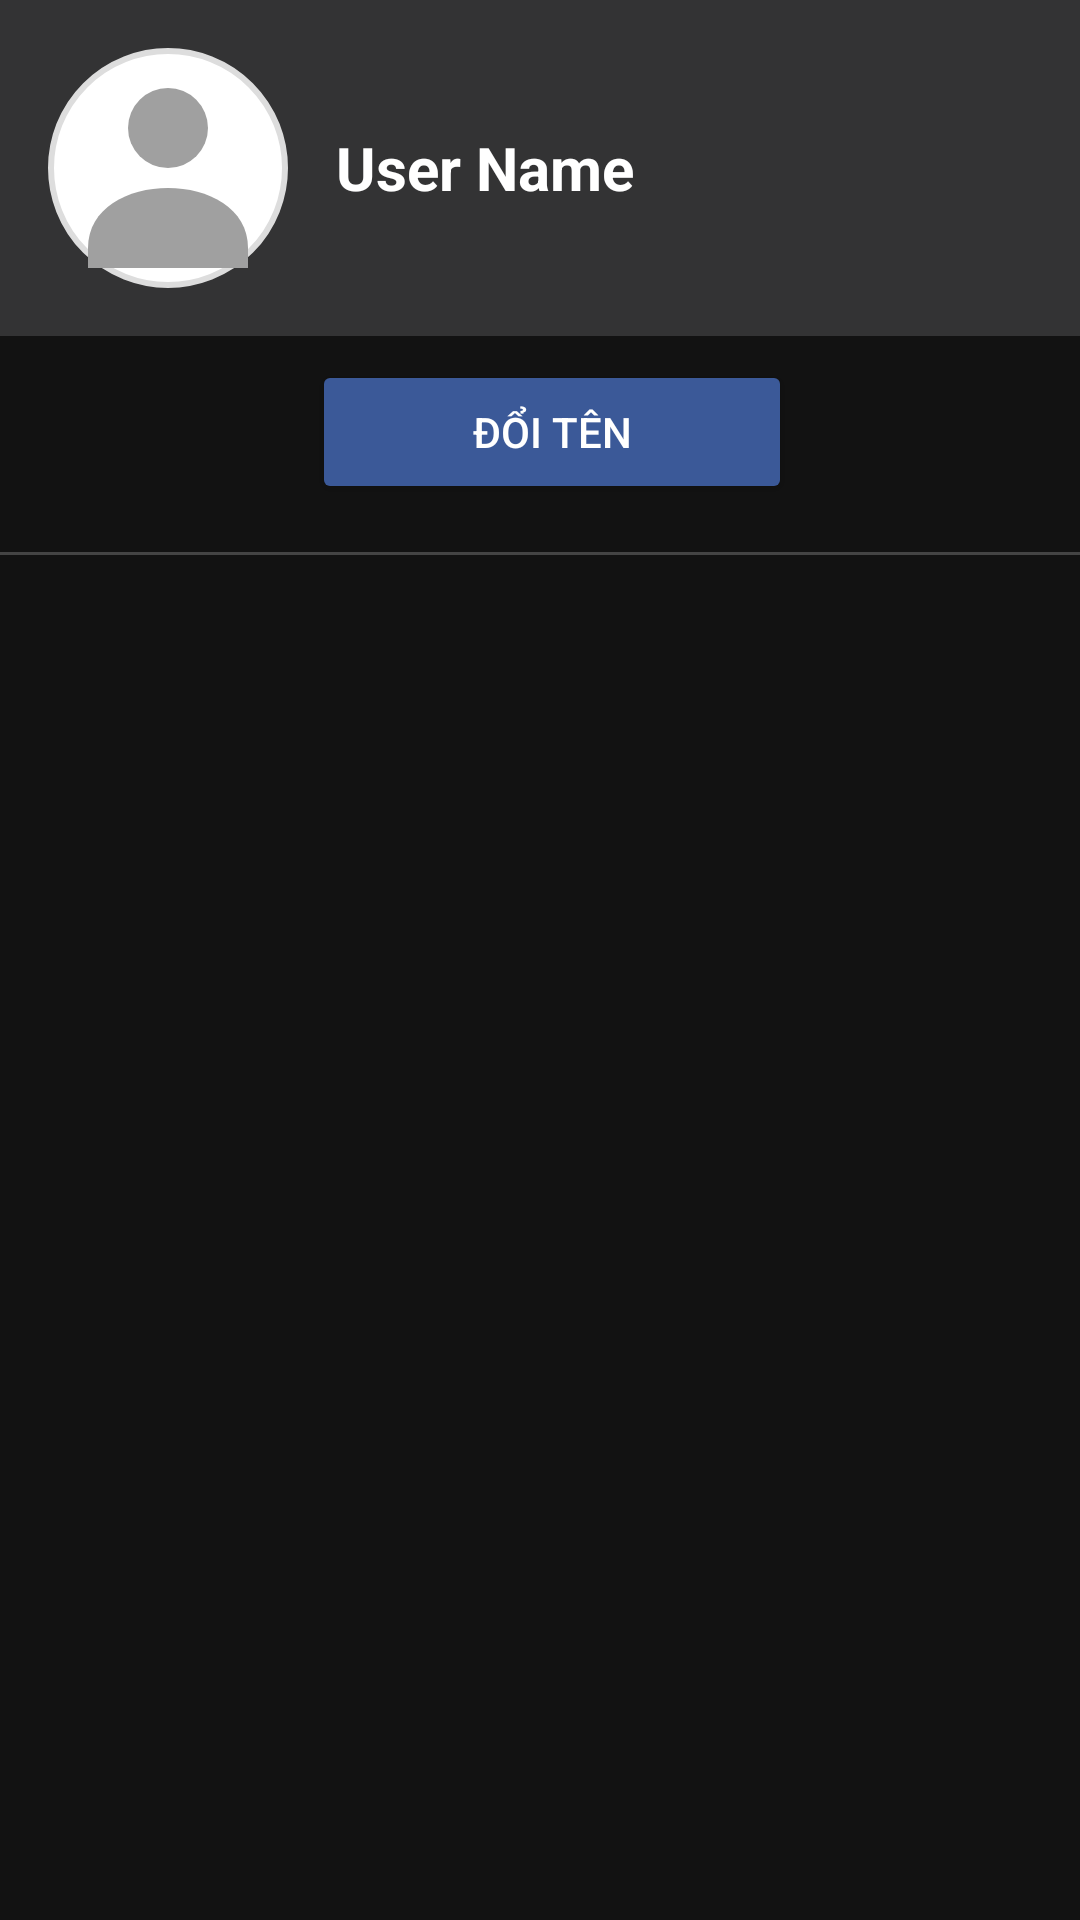

Screen size 1080*1920. Icon name, then its center in pixels as [x,y]:
User Profile Image: [168,168]
